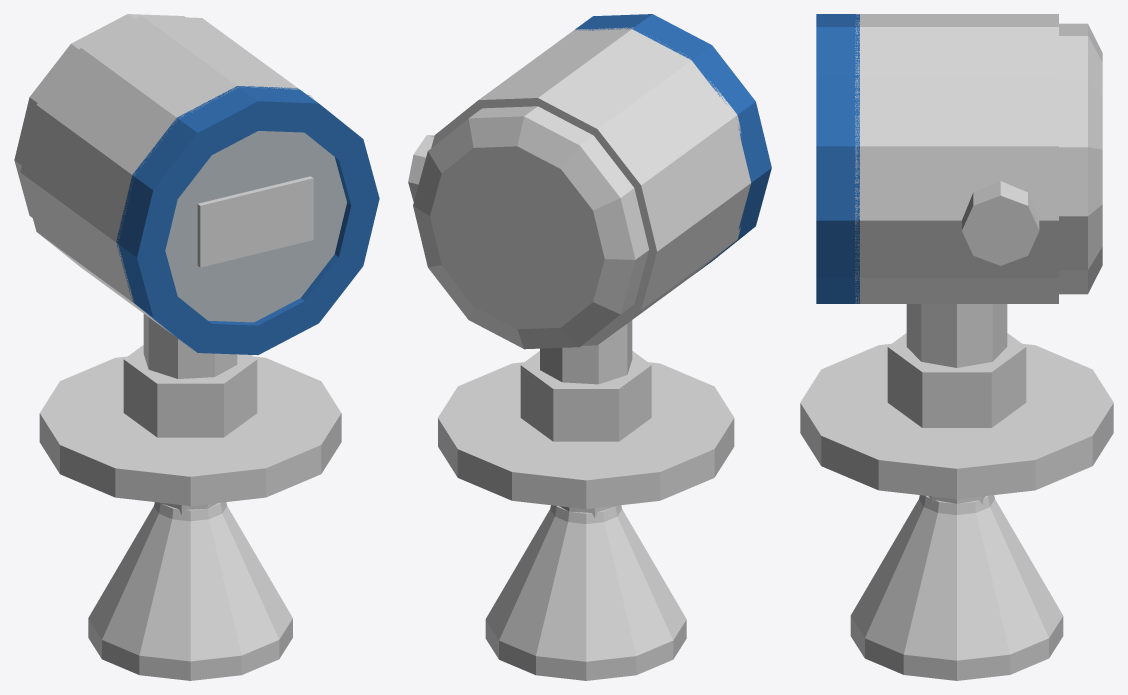
The model's file is level-radar.glb.
3 renders of one model, left to right at view 1: azimuth 30°, elevation 25°; view 2: azimuth 150°, elevation 25°; view 3: azimuth 270°, elevation 25°, orthographic. The views are drawn at different scales.
Visible parts, largest first — view 1: housing, display.bezel, mount.flange, antenna.horn, display.face, neck.hex, display.window, antenna.lip, neck, rear.cover; view 2: rear.cover, housing, mount.flange, antenna.horn, neck.hex, display.bezel, antenna.lip, neck, cable.gland; view 3: housing, mount.flange, antenna.horn, display.bezel, rear.cover, neck.hex, neck, cable.gland, antenna.lip.
Part boxes in pixels (<box>): housing: <box>20,15,298,335</box>; display.bezel: <box>116,86,379,355</box>; mount.flange: <box>39,356,341,505</box>; antenna.horn: <box>88,502,292,661</box>; display.face: <box>165,131,346,322</box>; neck.hex: <box>123,345,257,437</box>; display.window: <box>197,176,313,267</box>; antenna.lip: <box>88,618,292,680</box>; neck: <box>143,314,237,378</box>; rear.cover: <box>14,14,185,217</box>; rear.cover: <box>413,106,648,349</box>; housing: <box>431,27,750,345</box>; mount.flange: <box>438,362,734,509</box>; antenna.horn: <box>485,505,686,661</box>; neck.hex: <box>520,351,651,441</box>; display.bezel: <box>575,14,771,273</box>; antenna.lip: <box>485,620,686,680</box>; neck: <box>540,320,632,384</box>; cable.gland: <box>408,135,434,201</box>; housing: <box>855,14,1058,303</box>; mount.flange: <box>800,343,1113,499</box>; antenna.horn: <box>850,495,1063,660</box>; display.bezel: <box>816,14,859,303</box>; rear.cover: <box>1059,23,1102,294</box>; neck.hex: <box>887,333,1026,427</box>; neck: <box>906,304,1007,367</box>; cable.gland: <box>962,181,1039,265</box>; antenna.lip: <box>850,616,1063,680</box>.
Size of the model in its own units: 0.2917 by 0.6 by 0.28.
